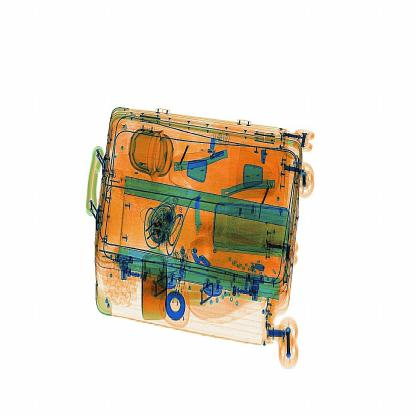wrench: (187, 180, 207, 262)
